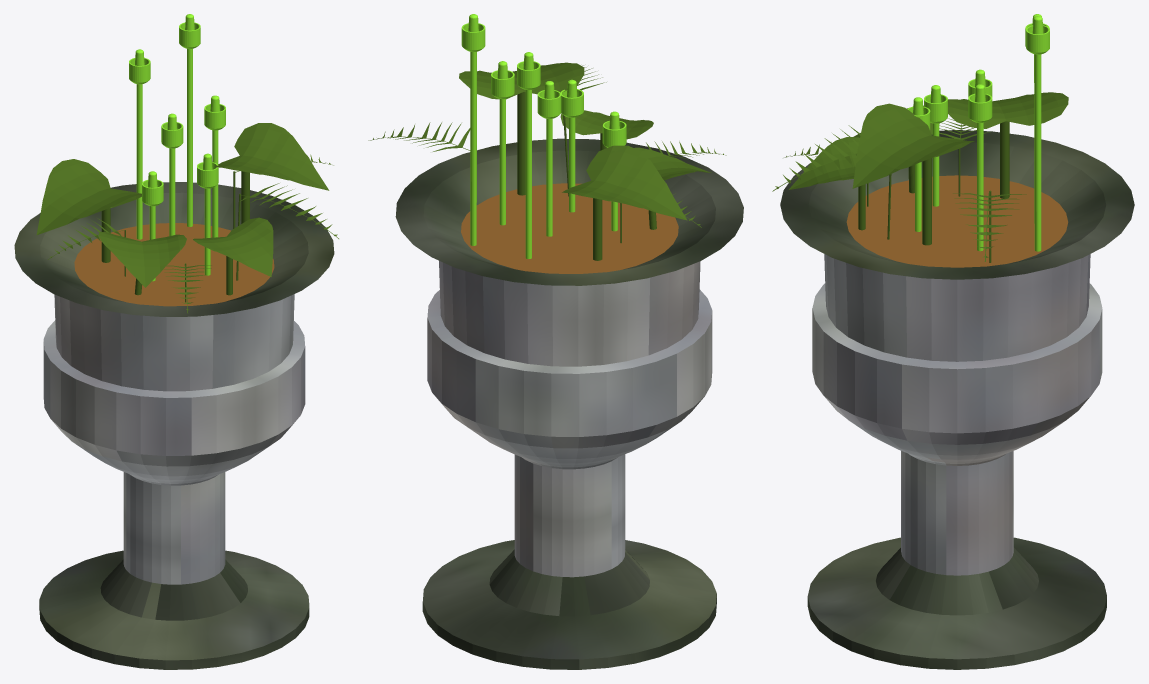
Rendered from vaso1.fbx.
3 renders of one model, left to right at view 1: azimuth 30°, elevation 25°; view 2: azimuth 150°, elevation 25°; view 3: azimuth 270°, elevation 25°, orthographic. The views are drawn at different scales.
Parts seen in each view (by area): view 1: Plano.035; view 2: Plano.035; view 3: Plano.035.
Boxes of the visible parts, x1,y1,x2,y2 form: Plano.035: [14, 14, 338, 669]; Plano.035: [368, 14, 743, 669]; Plano.035: [772, 14, 1134, 669].
Bounding box in the file's own units: 166 × 284 × 151.
1 material, 1 textured.
